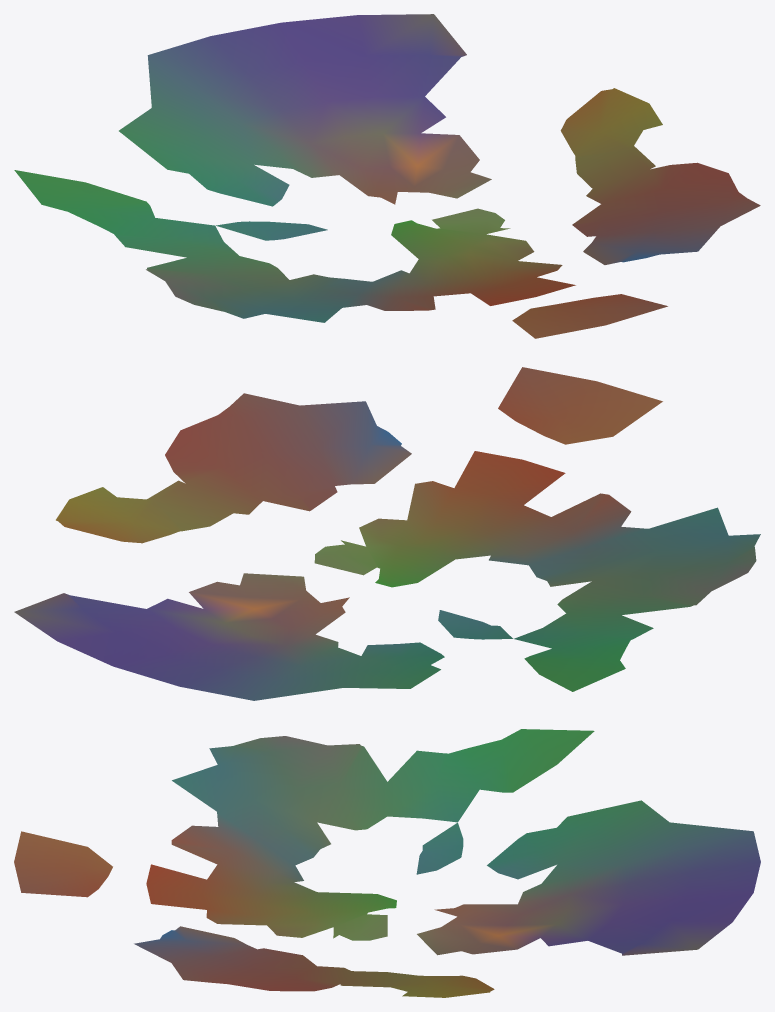
The model's file is space-galaxies-irregular-galaxy_v3.glb.
3 views of the same model, one above another, from view 1: azimuth 30°, elevation 25°; view 2: azimuth 150°, elevation 25°; view 3: azimuth 270°, elevation 25° (orthographic). The views are drawn at different scales.
Parts seen in each view (by area): view 1: Irregular Galaxy_v3; view 2: Irregular Galaxy_v3; view 3: Irregular Galaxy_v3.
Boxes of the visible parts, x1,y1,x2,y2 form: Irregular Galaxy_v3: (14, 14, 760, 338); Irregular Galaxy_v3: (14, 367, 760, 700); Irregular Galaxy_v3: (14, 729, 760, 997).
Size of the model in its own units: 0.4145 by 0.0313 by 0.5.
